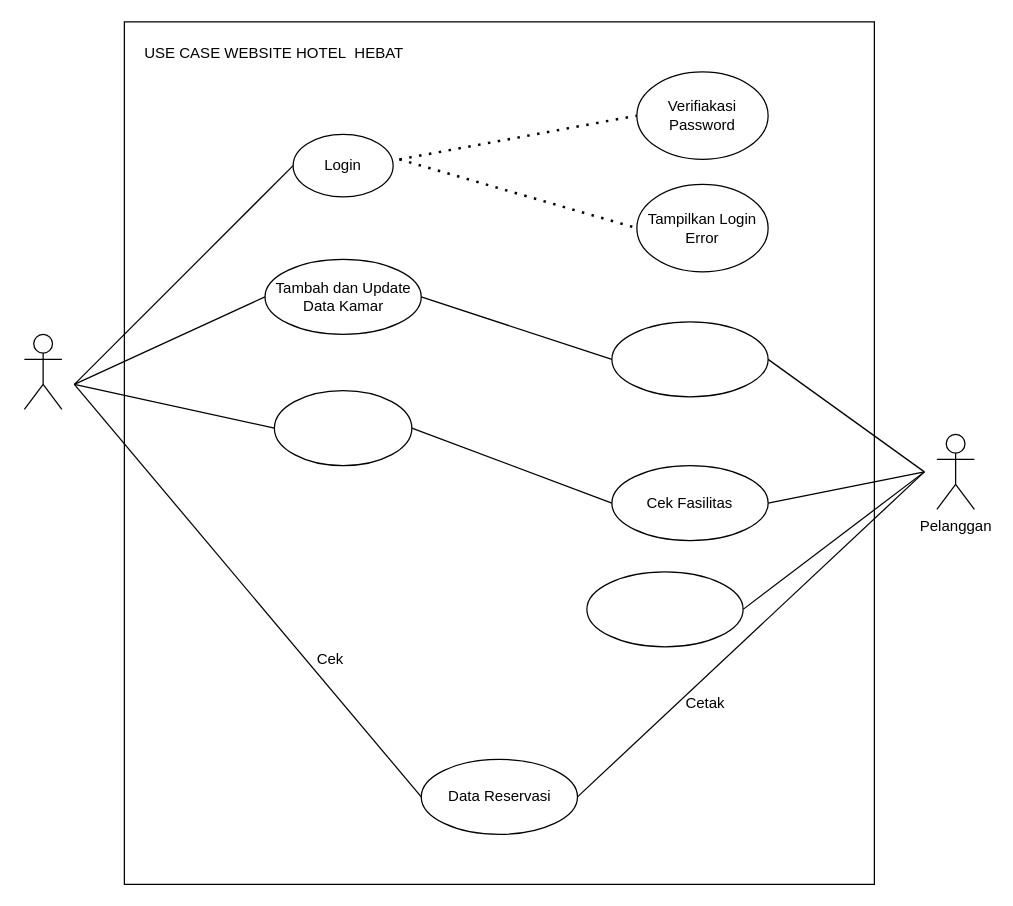
This 1013x906 diagram has some shape labels left out. Each missing label, with the centre of its shape:
Admin: point (42, 371)
Cek Data Kamar: point (689, 359)
Reservasi Kamar: point (664, 609)
Tambah dan Update Fasilitas: point (342, 427)
